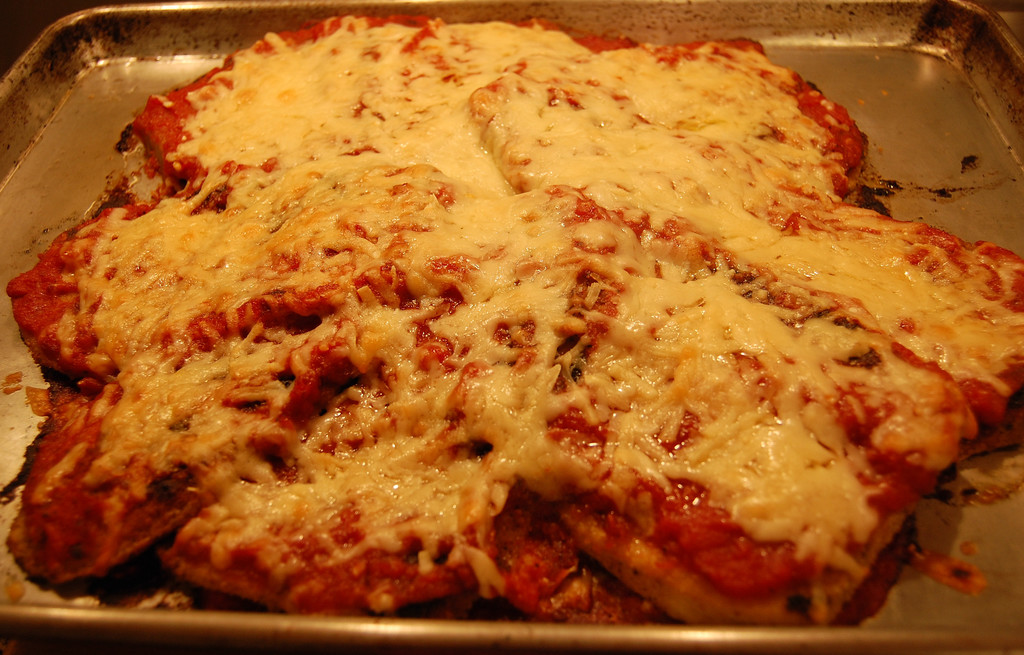Pizza: (0, 12, 1023, 614)
